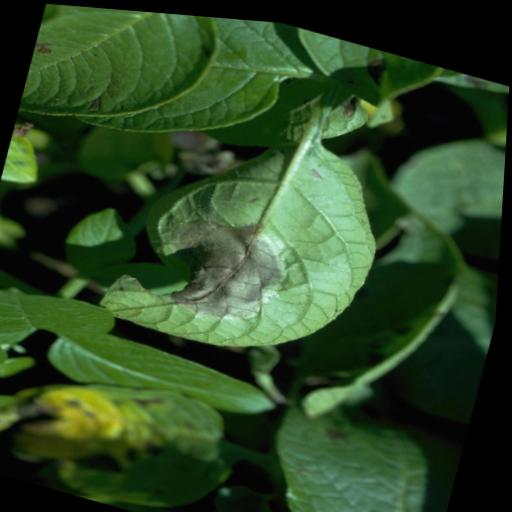Early Blight: (85, 86, 406, 386)
